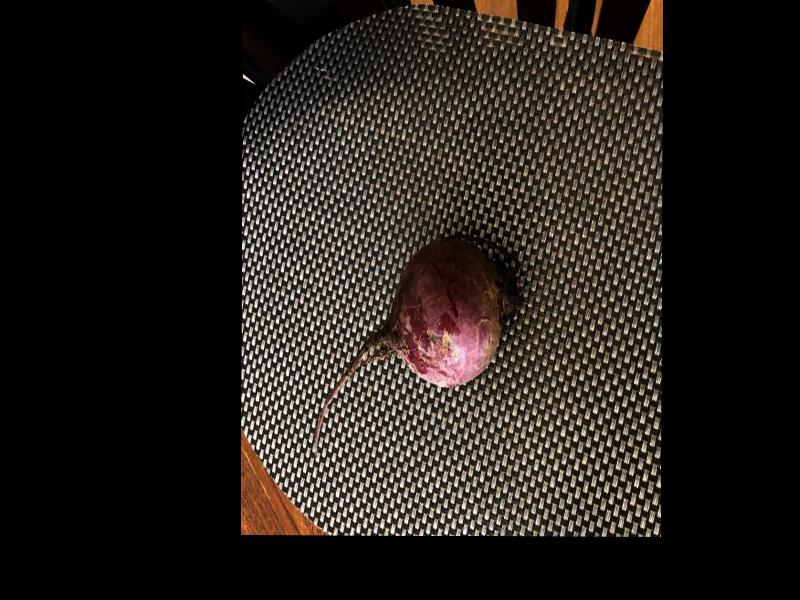Beet: (312, 235, 522, 453)
